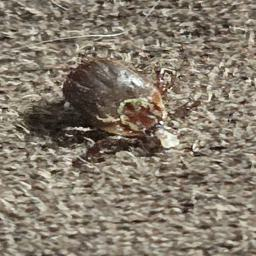Dermacentor variabilis: (31, 65, 204, 168)
